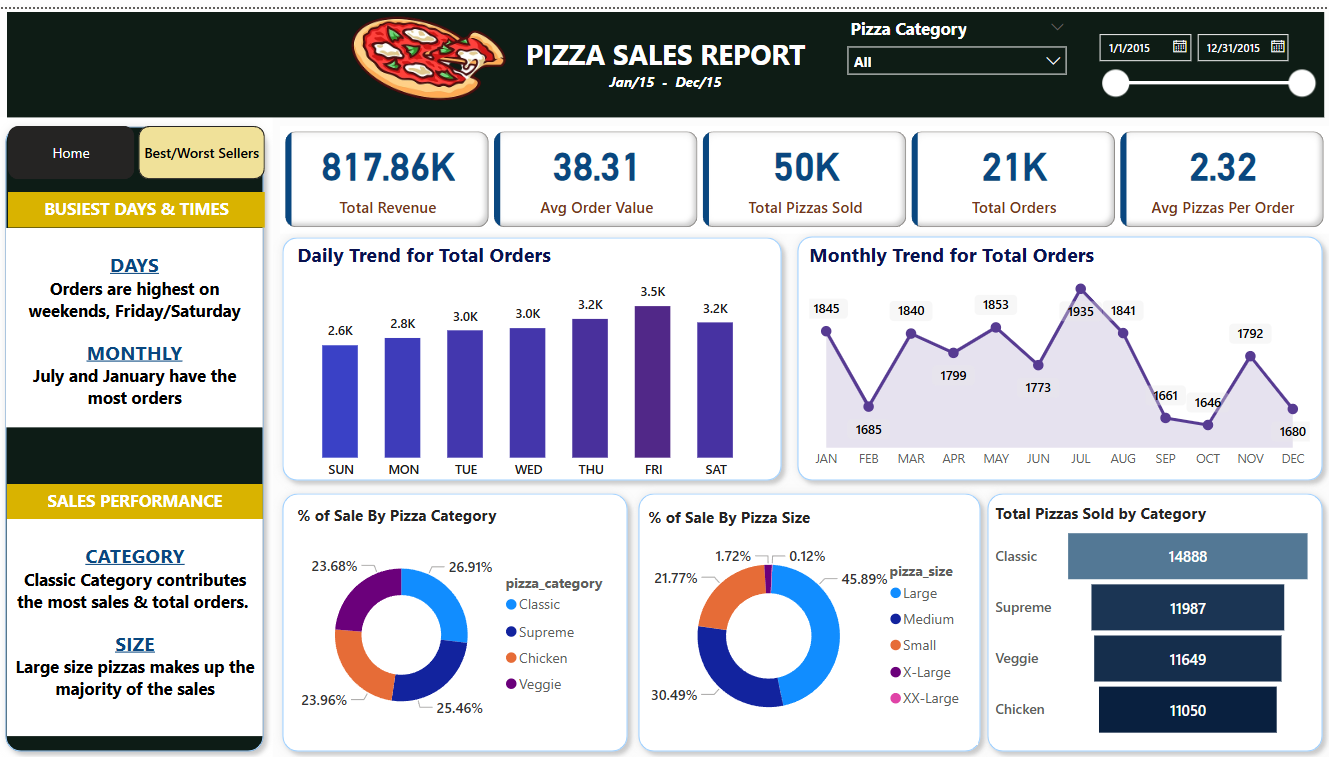

Layout of this report page (visuals, bound fields, positions):
{"tool":"powerbi","page":{"name":"Home","canvas":[1280,720],"ordinal":0},"visuals":[{"type":"cardVisual","fields":{"Data":["pizza_sales.Total Revenue","pizza_sales.Avg Order Value","pizza_sales.Total Pizzas Sold","pizza_sales.Total Orders","pizza_sales.Avg Pizzas Per Order"]},"box":[272.1,112.1,1007.9,102.5],"z":0},{"type":"shape","box":[265.4,209.8,496.3,251],"z":1000},{"type":"columnChart","title":"Daily Trend for Total Orders","fields":{"Category":["pizza_sales.Order Day"],"Y":["pizza_sales.Total Orders"]},"box":[283.6,222.3,453.2,237.6],"z":2000},{"type":"shape","box":[758.8,208.9,521.2,252],"z":3000},{"type":"areaChart","title":"Monthly Trend for Total Orders","fields":{"Category":["pizza_sales.Order Month"],"Y":["pizza_sales.Total Orders"]},"box":[774.1,222.3,489.6,227.1],"z":4000},{"type":"shape","box":[940.8,455.1,339.2,265.4],"z":5000},{"type":"shape","box":[606.5,455.1,345.9,265.4],"z":6000},{"type":"shape","box":[265.4,455.1,348.7,265.4],"z":7000},{"type":"donutChart","title":"% of Sale By Pizza Category","fields":{"Category":["pizza_sales.pizza_category"],"Y":["pizza_sales.Total Revenue"]},"box":[283.6,474.3,309.5,230.9],"z":8000},{"type":"donutChart","title":"% of Sale By Pizza Size","fields":{"Category":["pizza_sales.pizza_size"],"Y":["pizza_sales.Total Revenue"]},"box":[619.9,476.2,321,229],"z":9000},{"type":"funnel","title":"Total Pizzas Sold by Category","fields":{"Category":["pizza_sales.pizza_category"],"Y":["pizza_sales.Total Pizzas Sold"]},"box":[952.3,472.3,314.3,230.9],"z":10000},{"type":"shape","box":[0,103.5,265.4,617],"z":11000},{"type":"textbox","box":[11.5,175.3,246.2,33.5],"z":12000},{"type":"textbox","box":[9.6,209.8,246.2,190.7],"z":13000},{"type":"textbox","box":[10.5,455.1,245.3,33.5],"z":14000},{"type":"textbox","box":[10.5,488.6,245.3,207.9],"z":15000},{"type":"textbox","box":[10.5,2.9,1261.8,100.6],"z":16000},{"type":"slicer","fields":{"Values":["pizza_sales.pizza_category"]},"box":[805.7,2.9,229.9,76.6],"z":17000},{"type":"slicer","fields":{"Values":["pizza_sales.order_date"]},"box":[1044.3,0,228,96.8],"z":18000},{"type":"pageNavigator","box":[11.5,112.1,247.2,51.7],"z":19000},{"type":"image","box":[317.1,0,193.5,96.8],"z":20000}]}

Visuals, with their boxes in screenshot pixels (x1, y1, x2, y2), scaled from the page's 1280x720 canvas onto the 1329x757 screenshot:
cardVisual - pizza_sales.Total Revenue x pizza_sales.Avg Order Value: 283/118/1328/226
shape: 276/221/791/484
"Daily Trend for Total Orders" columnChart: 294/234/765/484
shape: 788/220/1328/485
"Monthly Trend for Total Orders" areaChart: 804/234/1312/472
shape: 977/478/1328/756
shape: 630/478/989/756
shape: 276/478/638/756
"% of Sale By Pizza Category" donutChart: 294/499/616/741
"% of Sale By Pizza Size" donutChart: 644/501/977/741
"Total Pizzas Sold by Category" funnel: 989/497/1315/739
shape: 0/109/276/756
textbox: 12/184/268/220
textbox: 10/221/266/421
textbox: 11/478/266/514
textbox: 11/514/266/732
textbox: 11/3/1321/109
slicer - pizza_sales.pizza_category: 837/3/1075/84
slicer - pizza_sales.order_date: 1084/0/1321/102
pageNavigator: 12/118/269/172
image: 329/0/530/102
